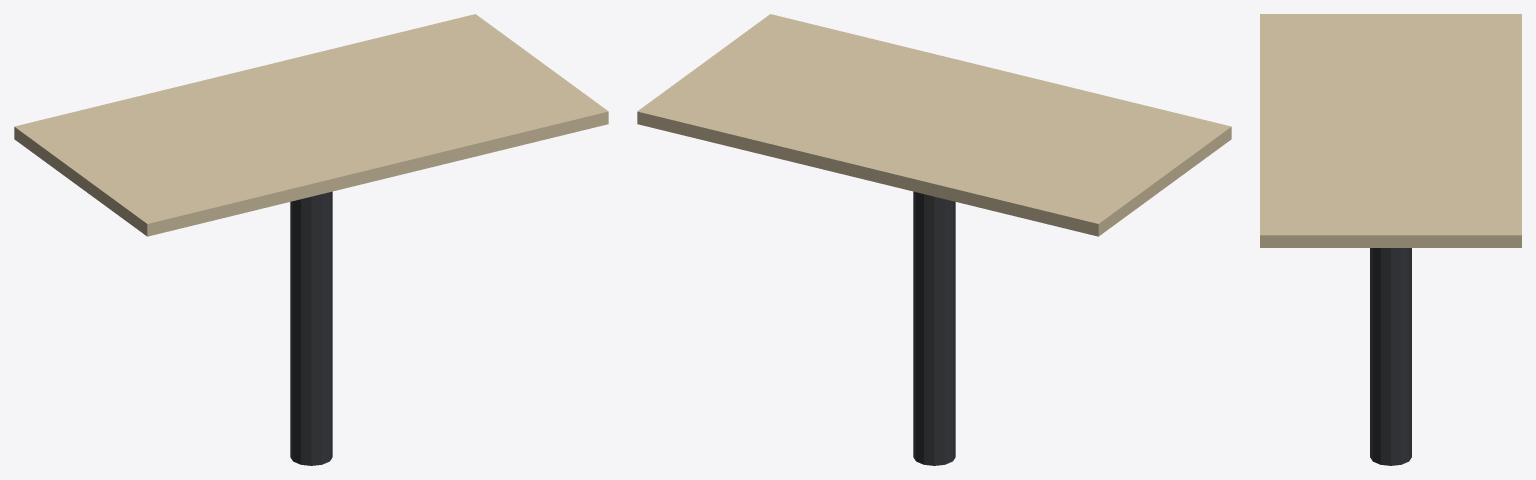
Rendered from booth_60.glb.
The picture shows the model from 3 angles, left to right: view 1: azimuth 30°, elevation 25°; view 2: azimuth 150°, elevation 25°; view 3: azimuth 270°, elevation 25°; orthographic projection.
Bounding box in the file's own units: 1.52 × 1.07 × 0.762.
